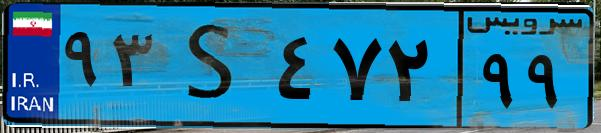2: (385, 28, 445, 110)
3: (110, 28, 158, 98)
4: (270, 28, 330, 110)
7: (330, 28, 385, 110)
9: (57, 26, 110, 100), (475, 38, 525, 113), (525, 38, 570, 115)
S: (158, 12, 270, 120)
